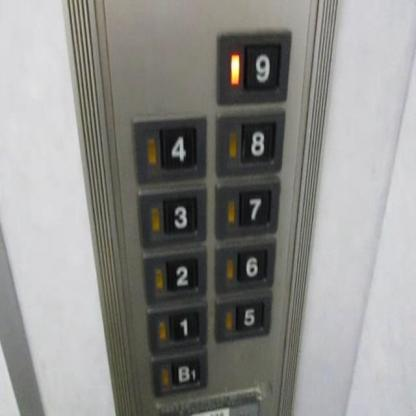1: (144, 302, 207, 351)
2: (140, 247, 206, 305)
3: (137, 184, 207, 250)
4: (131, 112, 207, 185)
5: (214, 290, 272, 343)
6: (213, 240, 276, 293)
7: (215, 176, 280, 238)
8: (214, 109, 284, 173)
9: (216, 27, 292, 102)
B1: (150, 346, 208, 395)
